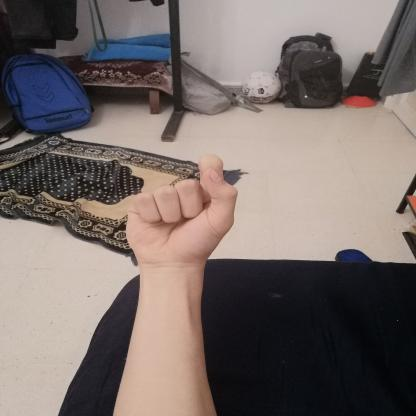FAA: (112, 146, 247, 272)
